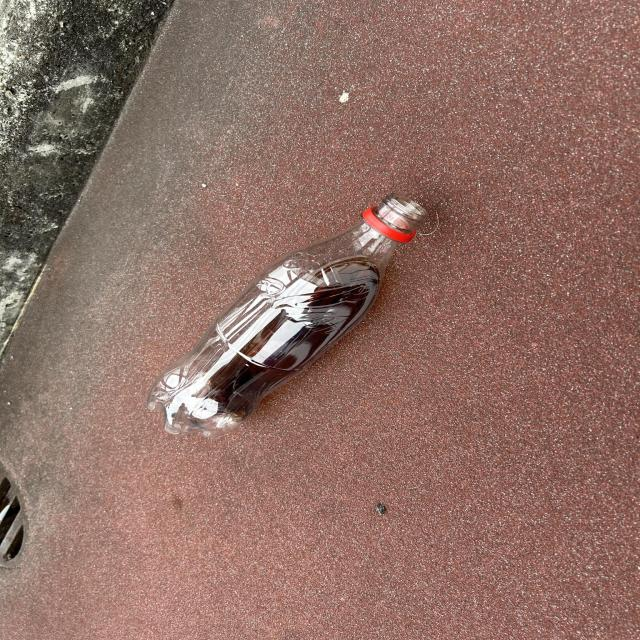low: (148, 194, 427, 436)
